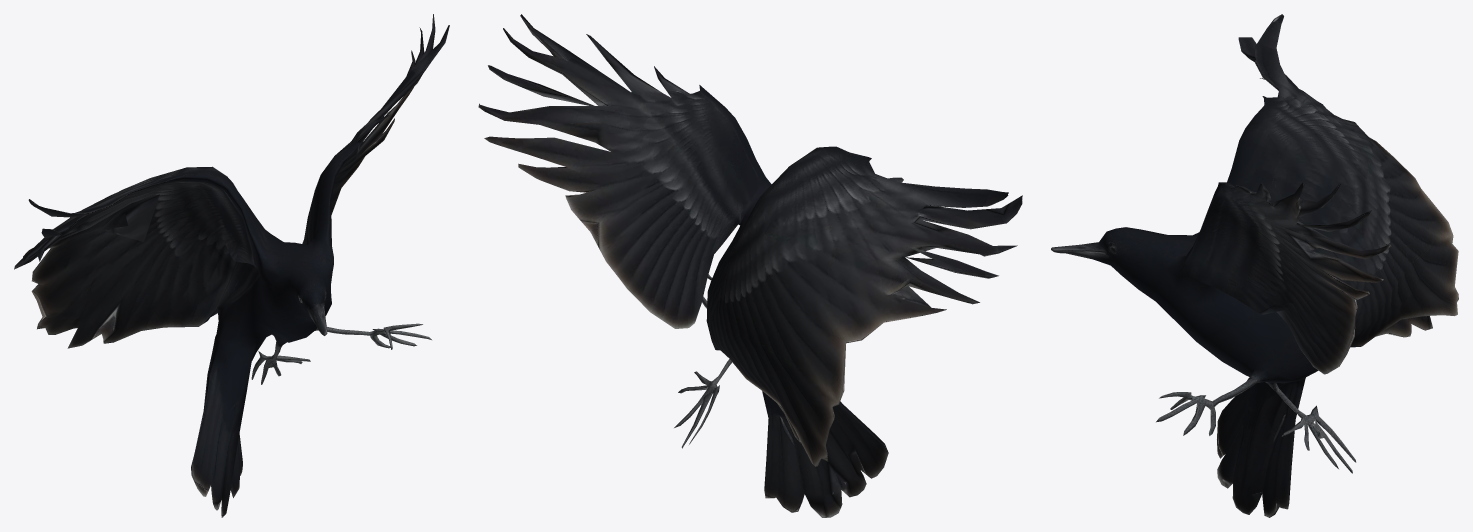
File: meshy-bird.glb
The picture shows the model from 3 angles, left to right: view 1: azimuth 30°, elevation 25°; view 2: azimuth 150°, elevation 25°; view 3: azimuth 270°, elevation 25°; orthographic projection. The views are drawn at different scales.
Size of the model in its own units: 1 by 0.916 by 0.7177.
Materials: 1 (1 with a texture image).
